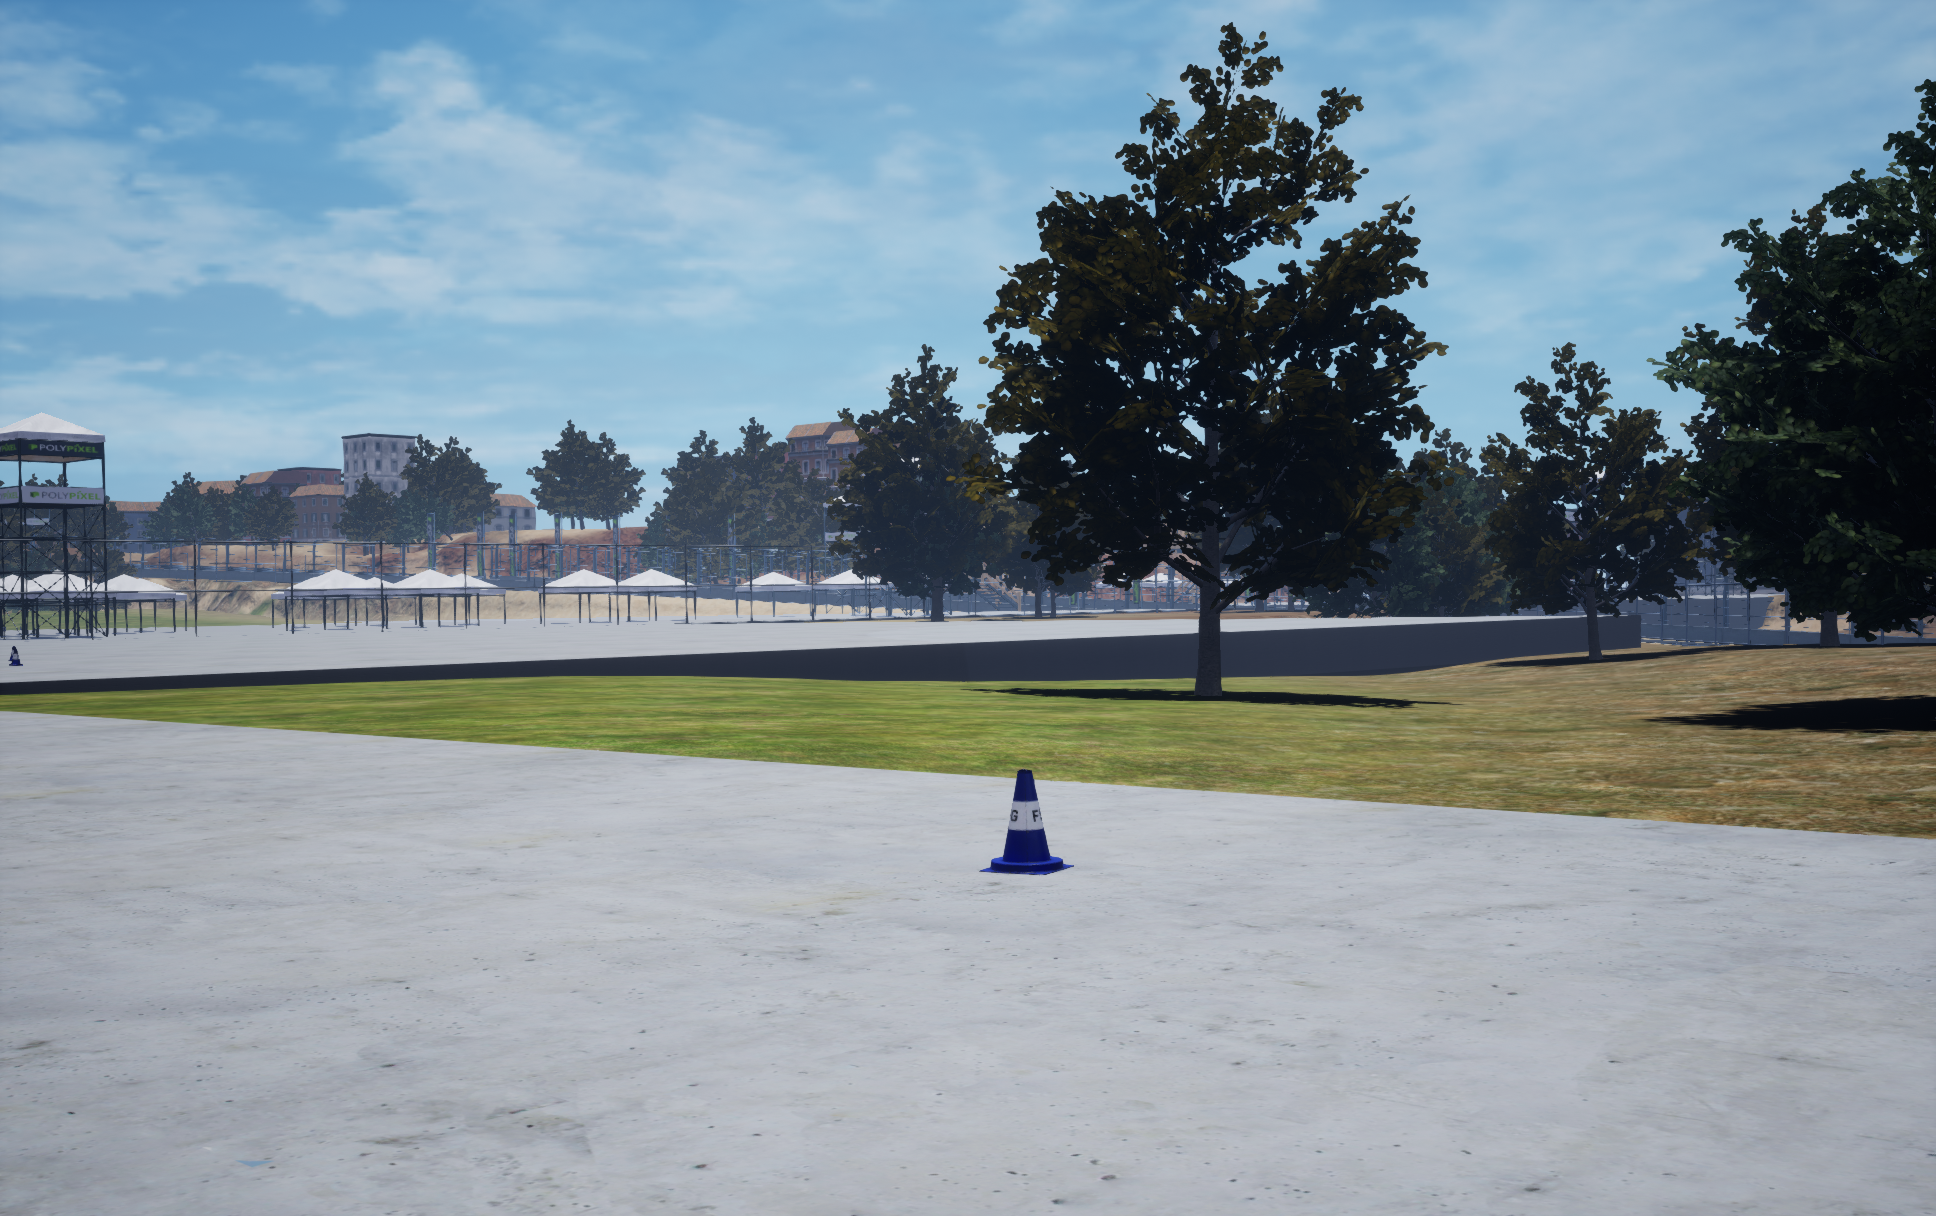yellow: (979, 769, 1073, 874)
